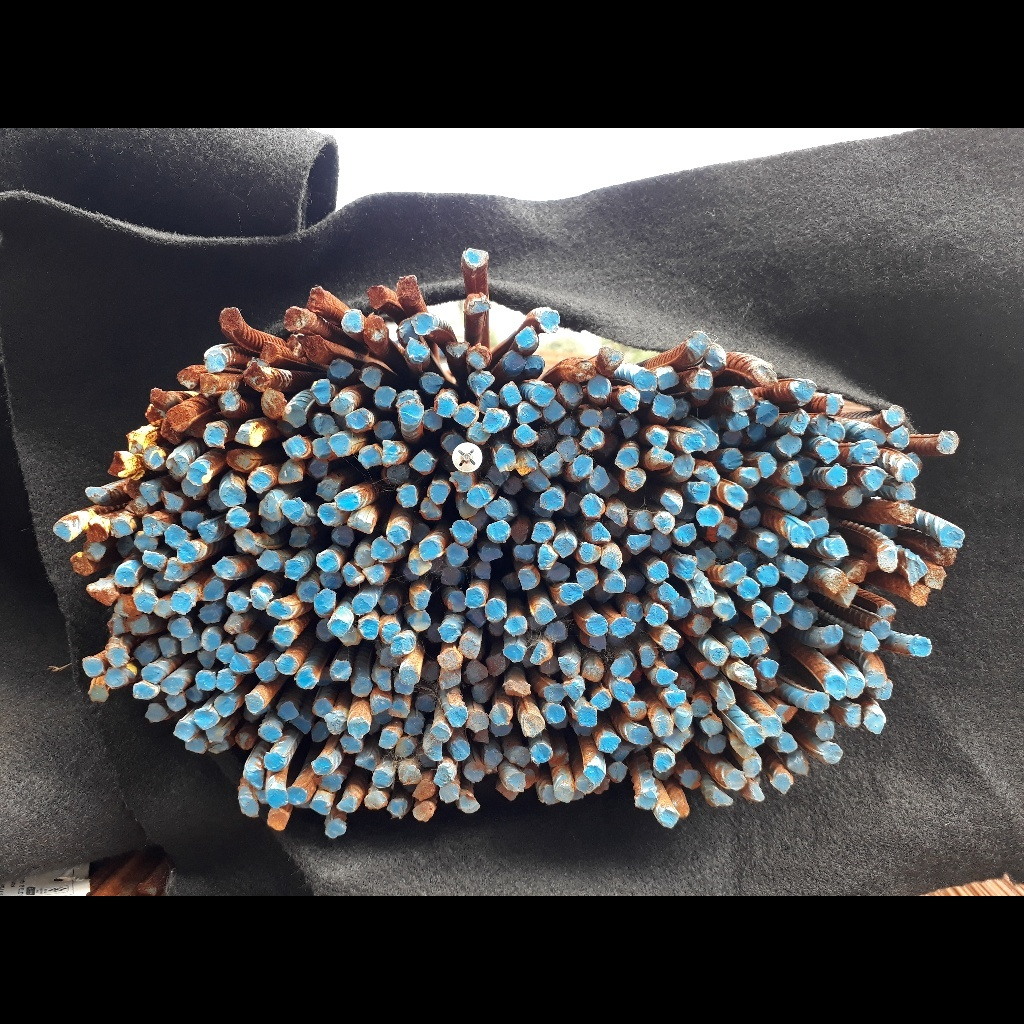dipstick: (107, 452, 140, 478), (260, 387, 287, 418), (242, 363, 270, 392), (790, 378, 817, 406), (235, 421, 263, 448), (731, 663, 757, 691), (226, 449, 257, 472), (467, 371, 494, 397), (530, 383, 557, 408), (450, 520, 478, 544), (257, 491, 281, 519), (664, 727, 693, 750), (891, 499, 916, 525), (729, 386, 755, 411), (789, 524, 815, 549), (671, 555, 697, 580), (467, 345, 492, 371), (453, 402, 479, 427), (370, 535, 395, 561), (853, 440, 880, 464), (86, 582, 114, 605), (905, 557, 927, 586), (364, 313, 386, 342), (784, 558, 809, 583), (651, 393, 676, 418), (539, 451, 564, 476), (924, 565, 948, 591), (688, 330, 712, 356), (579, 427, 605, 451), (514, 449, 538, 475), (467, 420, 491, 446), (280, 498, 306, 522), (158, 421, 182, 447), (165, 406, 189, 432), (781, 459, 804, 486), (863, 466, 887, 491), (785, 751, 810, 775), (446, 542, 470, 567), (410, 450, 435, 474), (433, 392, 457, 417), (316, 548, 340, 573), (282, 403, 307, 427), (164, 524, 188, 549), (936, 429, 959, 455), (752, 364, 778, 387), (610, 616, 636, 639), (481, 408, 504, 434), (776, 435, 803, 457), (537, 543, 558, 571), (523, 470, 551, 491), (462, 247, 490, 268), (724, 486, 748, 510), (755, 563, 779, 587), (656, 367, 680, 391), (528, 641, 552, 665), (400, 400, 424, 424), (342, 562, 366, 586), (250, 586, 274, 610), (221, 483, 245, 507), (863, 710, 886, 735), (755, 403, 780, 426), (559, 381, 584, 404), (504, 745, 529, 768), (203, 422, 226, 447), (788, 409, 810, 435), (212, 556, 238, 578), (589, 465, 610, 492), (380, 439, 401, 466), (278, 462, 305, 483), (883, 404, 906, 428), (825, 572, 849, 595), (689, 368, 713, 391), (647, 560, 670, 584), (587, 375, 610, 399), (606, 502, 629, 526), (540, 489, 564, 512), (502, 351, 526, 374), (487, 519, 511, 542), (465, 710, 489, 733), (397, 275, 420, 299), (324, 711, 347, 735), (220, 307, 243, 331), (126, 430, 150, 453), (826, 463, 848, 488), (735, 578, 760, 600), (661, 490, 683, 515), (624, 468, 646, 493), (611, 680, 636, 702), (543, 621, 568, 643), (556, 436, 578, 461), (314, 589, 336, 614), (225, 507, 250, 529), (281, 436, 306, 458), (168, 617, 193, 639), (757, 453, 778, 479), (696, 506, 722, 527), (626, 533, 652, 554), (495, 446, 516, 472), (193, 707, 219, 728), (199, 372, 220, 398), (715, 684, 735, 711), (544, 562, 571, 582), (504, 678, 531, 698), (816, 440, 839, 463), (743, 725, 766, 748), (700, 714, 723, 737), (518, 567, 541, 590), (484, 599, 507, 622), (185, 463, 208, 486), (219, 389, 242, 412), (585, 613, 609, 635), (514, 423, 538, 445), (410, 313, 434, 335), (341, 309, 363, 333), (361, 366, 383, 390), (330, 358, 354, 380), (357, 446, 381, 468), (348, 715, 370, 739), (226, 591, 250, 613), (248, 470, 272, 492), (284, 306, 306, 330), (837, 582, 858, 607), (599, 346, 624, 367), (580, 630, 606, 650), (502, 380, 522, 406), (437, 650, 463, 670), (334, 491, 360, 511), (141, 550, 167, 570), (758, 535, 780, 558), (694, 547, 716, 570), (682, 432, 705, 454), (580, 494, 602, 517), (573, 359, 596, 381), (485, 497, 508, 519), (466, 661, 488, 684), (396, 485, 418, 508), (421, 372, 444, 394), (390, 633, 412, 656), (330, 659, 352, 682), (413, 800, 435, 823), (276, 654, 298, 677), (214, 694, 236, 717), (162, 490, 185, 512), (142, 446, 165, 468), (705, 344, 726, 368), (634, 371, 658, 392), (674, 452, 695, 476), (610, 657, 634, 678), (629, 725, 653, 746), (522, 715, 546, 736), (541, 401, 565, 422), (514, 327, 538, 348), (539, 309, 560, 333), (441, 434, 465, 455), (317, 503, 341, 524), (361, 563, 385, 584), (371, 667, 392, 691), (256, 548, 280, 569), (172, 720, 196, 741), (177, 366, 198, 390), (573, 453, 593, 478), (516, 404, 541, 424), (510, 520, 530, 545), (355, 542, 375, 567), (144, 703, 169, 723), (878, 547, 897, 573), (465, 294, 491, 313), (266, 600, 292, 619), (807, 517, 829, 539), (744, 781, 766, 803), (653, 512, 675, 534), (624, 572, 646, 594), (617, 391, 639, 413), (477, 391, 499, 413), (450, 471, 472, 493), (446, 706, 468, 728), (408, 339, 430, 361), (296, 580, 318, 602), (278, 700, 300, 722), (303, 334, 325, 356), (170, 592, 192, 614), (825, 676, 846, 699), (821, 624, 844, 645), (760, 716, 783, 737), (693, 587, 716, 608), (674, 523, 697, 544), (456, 497, 479, 518), (504, 616, 527, 637), (418, 539, 441, 560), (422, 408, 443, 431), (344, 410, 367, 431), (413, 780, 436, 801), (272, 625, 295, 646), (265, 788, 288, 809), (229, 652, 252, 673), (196, 520, 217, 543), (70, 554, 93, 575), (139, 483, 160, 506), (848, 560, 868, 584), (718, 516, 738, 540), (699, 429, 719, 453), (552, 538, 576, 558), (465, 487, 489, 507), (424, 738, 444, 762), (314, 414, 338, 434), (134, 531, 158, 551), (166, 455, 190, 475), (725, 411, 750, 430), (696, 466, 721, 485), (620, 415, 639, 440), (312, 379, 331, 404), (105, 647, 130, 666), (911, 635, 932, 657), (746, 420, 768, 441), (721, 449, 743, 470), (739, 507, 761, 528), (736, 550, 758, 571), (748, 635, 770, 656), (691, 697, 713, 718), (680, 768, 702, 789), (632, 510, 654, 531), (576, 568, 598, 589), (634, 790, 656, 811), (577, 705, 598, 727), (458, 637, 479, 659), (488, 705, 510, 726), (439, 668, 461, 689), (438, 622, 460, 643), (421, 498, 442, 520), (374, 387, 396, 408), (330, 395, 352, 416), (329, 433, 350, 455), (317, 480, 339, 501), (409, 610, 431, 631), (255, 660, 276, 682), (234, 528, 255, 550), (289, 527, 311, 548), (180, 633, 201, 655), (202, 580, 224, 601), (176, 542, 198, 563), (150, 387, 171, 409), (806, 692, 829, 712), (775, 733, 798, 753), (531, 522, 554, 542), (387, 464, 410, 484), (367, 286, 387, 309), (399, 764, 422, 784), (295, 669, 318, 689), (346, 517, 373, 534), (132, 682, 159, 699), (751, 604, 770, 628), (774, 704, 798, 723), (712, 601, 736, 620), (650, 446, 674, 465), (664, 689, 688, 708), (645, 606, 669, 625), (486, 652, 505, 676), (331, 527, 355, 546), (216, 669, 235, 693), (198, 604, 222, 623), (844, 703, 862, 728), (316, 774, 342, 791), (888, 427, 909, 448), (739, 468, 760, 489), (729, 637, 750, 658), (727, 769, 748, 790), (653, 716, 674, 737), (607, 763, 628, 784), (557, 656, 578, 677), (465, 607, 486, 628), (352, 594, 373, 615), (378, 729, 399, 750), (291, 713, 312, 734), (114, 594, 135, 615), (86, 522, 107, 543), (205, 352, 226, 373), (897, 462, 919, 482), (910, 584, 930, 606), (860, 631, 880, 653), (829, 536, 849, 558), (793, 609, 813, 631), (726, 562, 746, 584), (770, 774, 792, 794), (691, 481, 711, 503), (650, 531, 672, 551), (658, 582, 680, 602), (670, 596, 692, 616), (544, 703, 566, 723), (540, 655, 562, 675), (534, 604, 556, 624), (513, 543, 535, 563), (463, 588, 485, 608), (266, 811, 288, 831), (195, 670, 217, 690), (141, 516, 163, 536), (845, 675, 864, 698), (603, 574, 626, 593), (487, 466, 510, 485), (339, 735, 362, 754), (126, 615, 149, 634), (180, 511, 203, 530), (83, 543, 106, 562), (181, 477, 204, 496), (940, 530, 964, 548), (599, 551, 623, 569), (582, 764, 606, 782), (445, 340, 469, 358), (479, 544, 503, 562), (407, 558, 432, 575), (84, 486, 109, 503), (937, 545, 958, 565), (807, 488, 827, 509), (780, 489, 800, 510), (774, 593, 794, 614), (822, 743, 842, 764), (741, 758, 762, 778), (673, 709, 693, 730), (623, 603, 644, 623), (590, 521, 611, 541), (504, 772, 525, 792), (464, 762, 484, 783), (431, 721, 451, 742), (377, 594, 398, 614), (404, 716, 425, 736), (340, 627, 361, 647), (372, 768, 392, 789), (355, 750, 375, 771), (284, 559, 304, 580), (264, 751, 285, 771), (260, 341, 280, 362), (106, 668, 127, 688), (82, 656, 103, 676), (201, 630, 222, 650), (115, 569, 136, 589), (844, 486, 863, 508), (758, 659, 780, 678), (698, 660, 720, 679), (652, 753, 674, 772), (615, 451, 637, 470), (561, 583, 583, 602), (599, 734, 621, 753), (541, 783, 560, 805), (530, 743, 552, 762), (590, 691, 612, 710), (545, 684, 567, 703), (433, 764, 452, 786), (430, 482, 449, 504), (359, 618, 378, 640), (326, 619, 348, 638), (324, 820, 346, 839), (165, 693, 187, 712), (134, 644, 153, 666), (135, 594, 157, 613), (126, 496, 148, 515), (671, 398, 689, 421), (580, 410, 603, 428), (503, 644, 526, 662), (458, 794, 481, 812), (452, 739, 470, 762), (400, 319, 418, 342), (363, 791, 386, 809), (163, 557, 181, 580), (656, 668, 680, 685), (319, 571, 343, 588), (258, 723, 282, 740), (815, 721, 835, 741), (439, 783, 459, 803), (400, 666, 420, 686), (351, 678, 371, 698), (145, 405, 165, 425), (864, 670, 885, 689), (874, 679, 893, 700), (447, 590, 466, 611), (394, 737, 415, 756), (387, 798, 408, 817), (234, 731, 255, 750), (245, 693, 264, 714), (223, 614, 244, 633), (88, 684, 109, 703), (207, 489, 226, 510), (579, 542, 601, 560), (553, 784, 575, 802), (523, 354, 545, 372), (374, 421, 396, 439), (388, 526, 410, 544), (285, 334, 303, 356), (110, 519, 132, 537), (710, 788, 733, 805), (574, 776, 597, 793), (316, 619, 333, 642), (611, 745, 635, 761), (827, 421, 846, 441), (789, 579, 809, 598), (692, 614, 711, 634), (660, 632, 680, 651), (627, 701, 647, 720), (550, 747, 570, 766), (467, 511, 487, 530), (382, 622, 401, 642), (379, 647, 398, 667), (287, 786, 307, 805), (106, 615, 125, 635), (53, 521, 72, 541), (870, 621, 891, 639), (708, 647, 729, 665), (602, 476, 620, 497), (582, 665, 603, 683), (659, 810, 680, 828), (557, 418, 578, 436), (496, 784, 517, 802), (415, 588, 433, 609), (312, 697, 333, 715), (160, 678, 181, 696), (158, 637, 176, 658), (153, 599, 174, 617), (153, 572, 174, 590), (864, 427, 886, 444), (312, 721, 329, 743), (235, 633, 257, 650), (640, 645, 656, 668), (600, 407, 616, 430), (422, 660, 438, 683), (309, 799, 332, 815), (183, 738, 206, 754), (673, 800, 692, 819), (504, 477, 523, 496), (483, 749, 502, 768), (441, 567, 460, 586), (216, 644, 235, 663), (826, 394, 844, 414), (812, 414, 830, 434), (708, 733, 726, 753), (594, 584, 614, 602), (533, 499, 553, 517), (240, 799, 260, 817), (308, 288, 326, 308), (141, 666, 161, 684), (799, 456, 816, 477), (712, 542, 733, 559), (388, 701, 409, 718), (565, 491, 581, 513), (490, 720, 512, 736), (398, 390, 420, 406), (677, 501, 696, 519), (308, 458, 327, 476), (312, 438, 330, 457), (197, 648, 215, 667), (648, 431, 668, 448), (678, 675, 695, 695), (606, 519, 626, 536), (394, 677, 414, 694), (415, 695, 435, 712), (371, 697, 391, 714), (261, 517, 281, 534), (205, 724, 225, 741), (116, 536, 133, 556), (468, 728, 489, 744), (335, 796, 356, 812), (207, 738, 228, 754), (310, 758, 332, 773), (907, 453, 925, 471), (763, 615, 781, 633), (563, 684, 581, 702), (475, 561, 492, 580), (412, 523, 429, 542), (184, 686, 203, 703), (895, 483, 915, 499), (429, 556, 445, 576), (758, 678, 779, 693), (502, 572, 520, 589), (553, 602, 572, 618), (722, 430, 742, 445), (523, 766, 536, 789), (662, 652, 680, 668), (574, 721, 592, 737), (472, 685, 488, 703), (791, 495, 806, 514), (428, 622, 443, 641), (876, 605, 896, 619), (692, 387, 715, 399), (550, 715, 568, 730), (638, 390, 658, 403), (489, 619, 504, 636), (316, 668, 331, 685), (246, 771, 263, 786), (375, 710, 393, 723), (527, 617, 542, 631), (244, 708, 260, 721), (812, 508, 828, 517), (257, 788, 266, 802)
